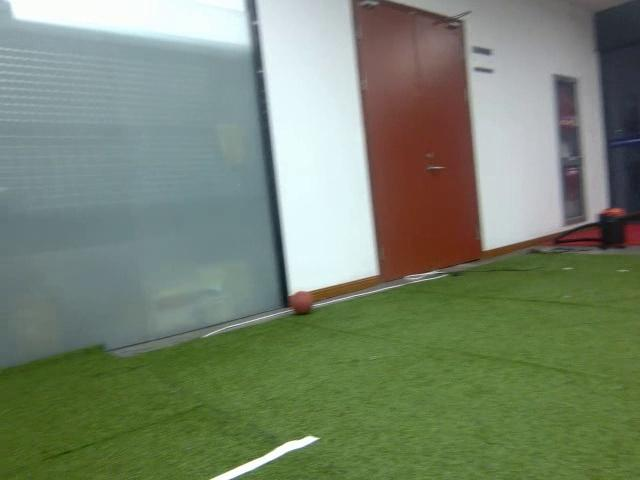red_ball: (288, 291, 314, 314)
